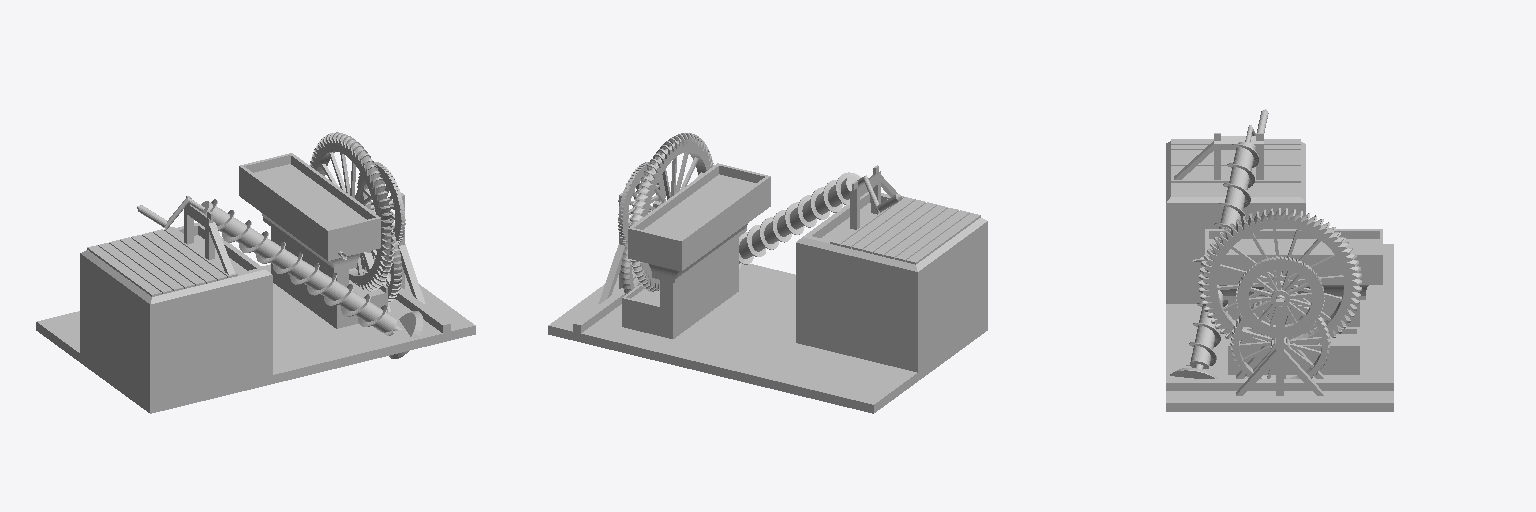
The model's file is DaV_Wheel_VR.obj.
The picture shows the model from 3 angles: view 1: azimuth 30°, elevation 25°; view 2: azimuth 150°, elevation 25°; view 3: azimuth 270°, elevation 25°; orthographic projection.
Parts seen in each view (by area): view 1: DaV_Wheel_Mesh.008; view 2: DaV_Wheel_Mesh.008; view 3: DaV_Wheel_Mesh.008.
Boxes of the visible parts, x1,y1,x2,y2 form: DaV_Wheel_Mesh.008: [36, 132, 475, 413]; DaV_Wheel_Mesh.008: [548, 133, 987, 413]; DaV_Wheel_Mesh.008: [1166, 109, 1393, 411].
Size of the model in its own units: 2.45 by 1.36 by 1.49.